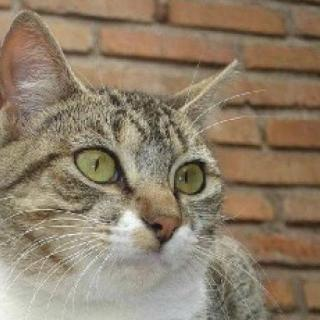cat: (0, 12, 237, 296)
nose: (134, 193, 189, 245)
